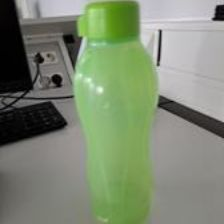bottle: (71, 2, 157, 223)
